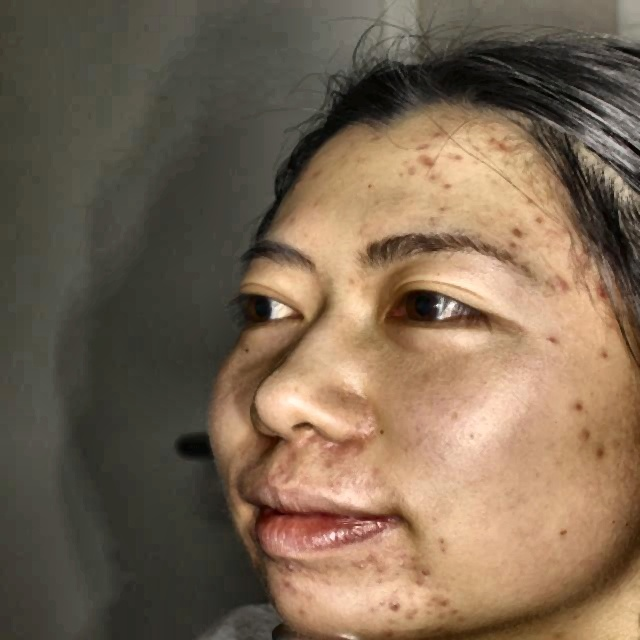pustule: (374, 593, 413, 621), (416, 144, 445, 178), (486, 134, 519, 163), (412, 563, 448, 586), (585, 435, 612, 459), (557, 393, 588, 411), (308, 167, 336, 185), (503, 218, 522, 240), (588, 282, 612, 299), (577, 419, 598, 436), (555, 270, 568, 290), (434, 591, 449, 606)
